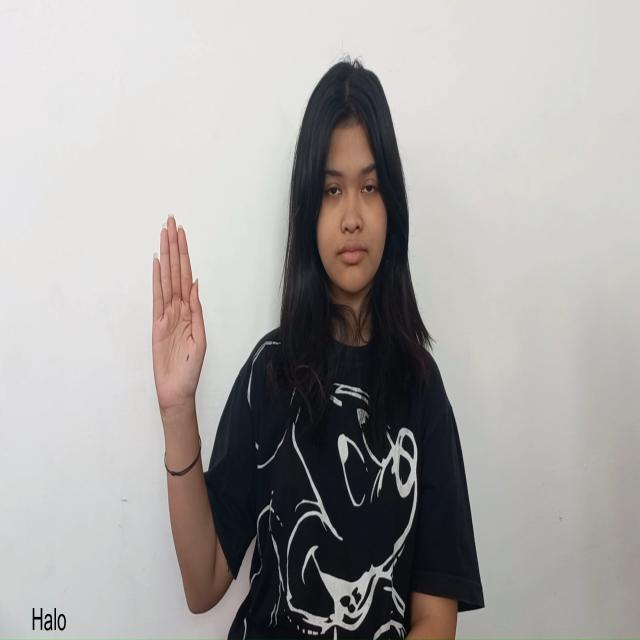Halo -BISINDO-: (152, 213, 206, 428)
